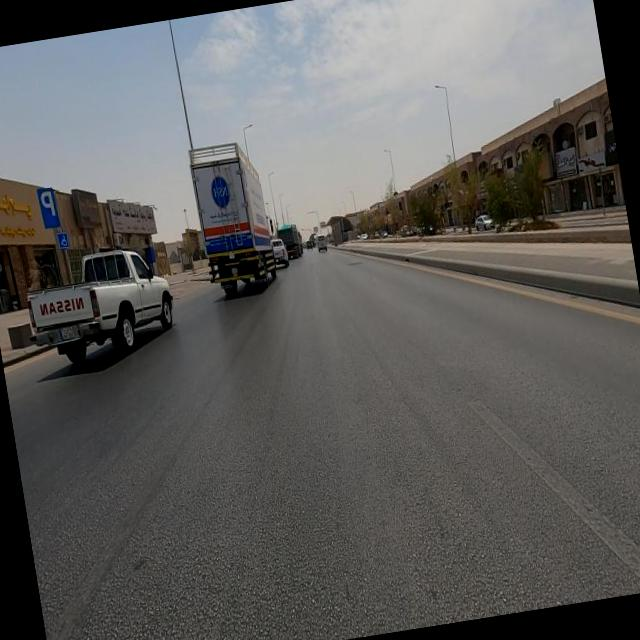debris: (46, 152, 136, 258)
